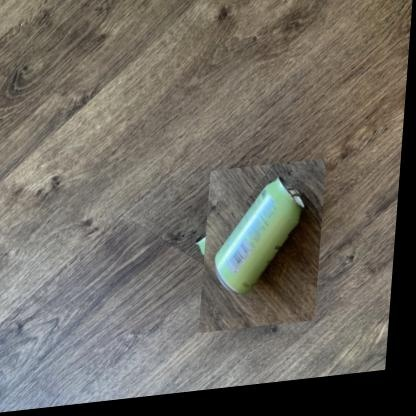trash: (215, 177, 303, 292)
